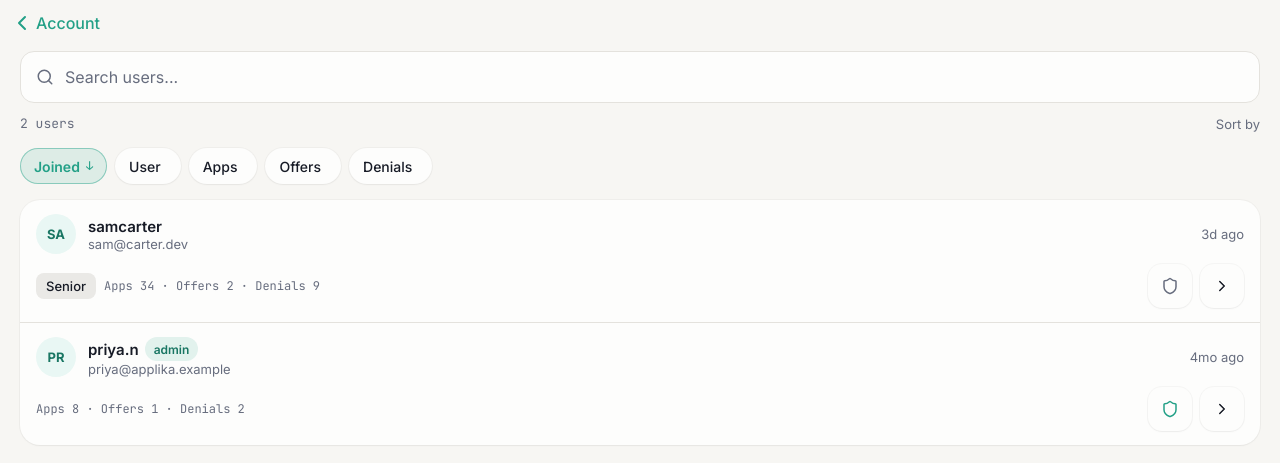
Test: the admin Users board below md (v3/AdminUsers) › says no user matches in its own words, and a cleared search shows the list at once
The image size is (1280, 463).
Expected: the text "samcarter" is shown, [88,216,162,236]
Type "zzz" into the search field labelled "Search users" at coordinates (640, 77), box [20,51,1260,103]
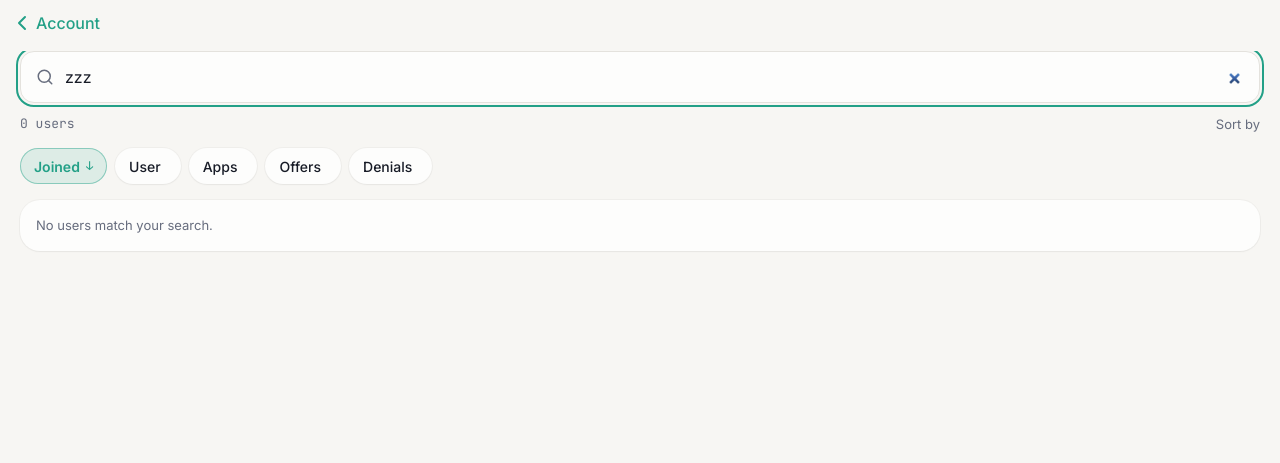
Clear the search field named "Search users" at coordinates (640, 77), box [20,51,1260,103]
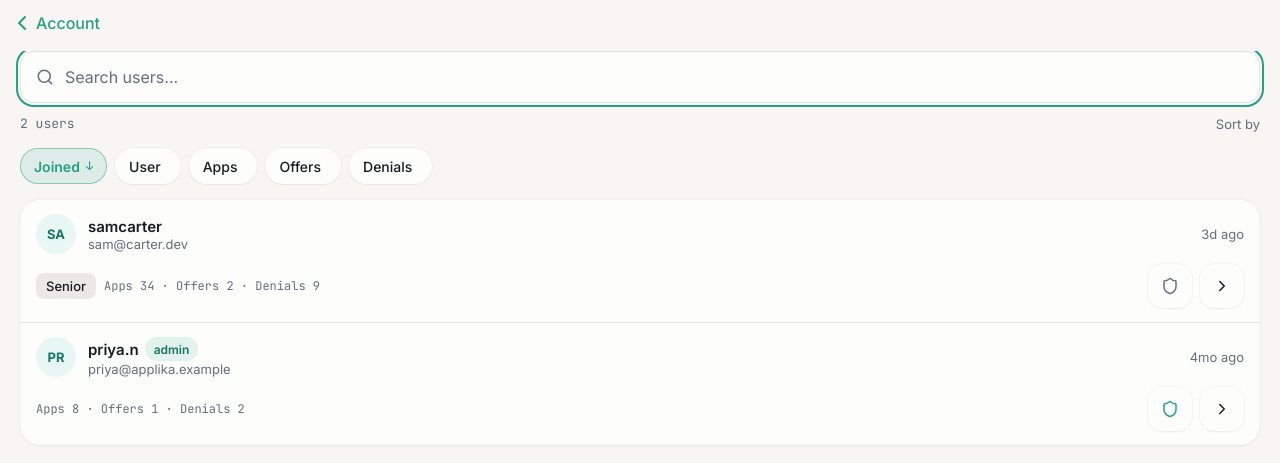
Result: the text "samcarter" is shown at [88,216,162,236]
Result: the text "No users match your search." is gone
